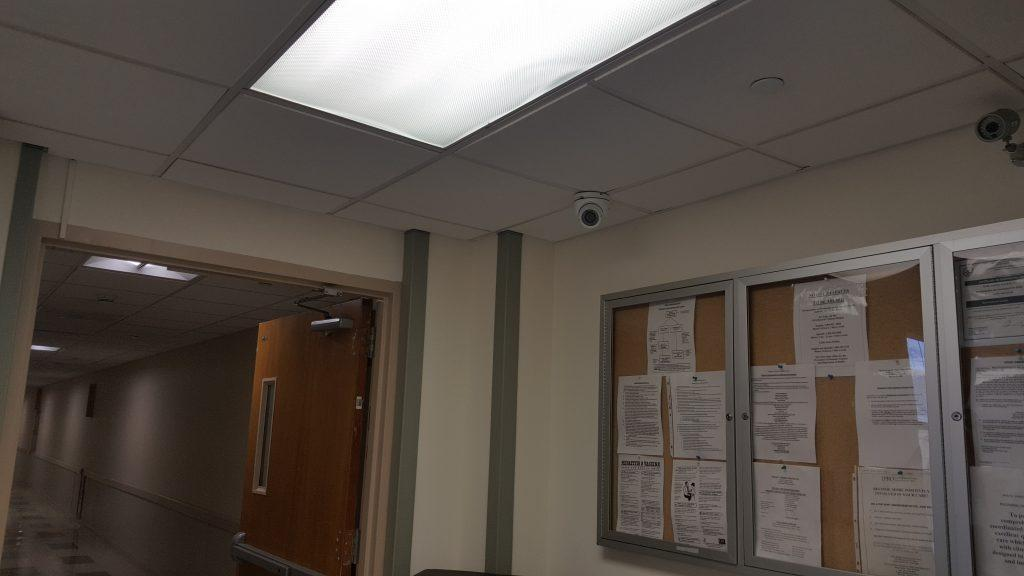CCTV: (978, 107, 1024, 166), (561, 190, 611, 238)
